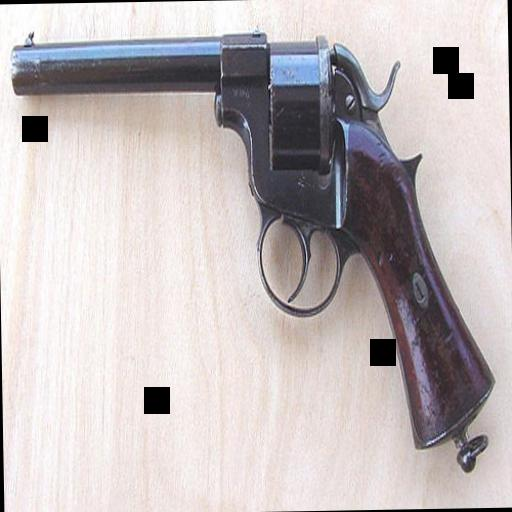Handgun: (6, 20, 492, 448)
